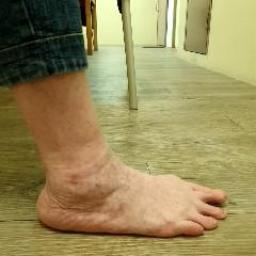Lateral View -Right Foot-: (15, 122, 239, 248)
